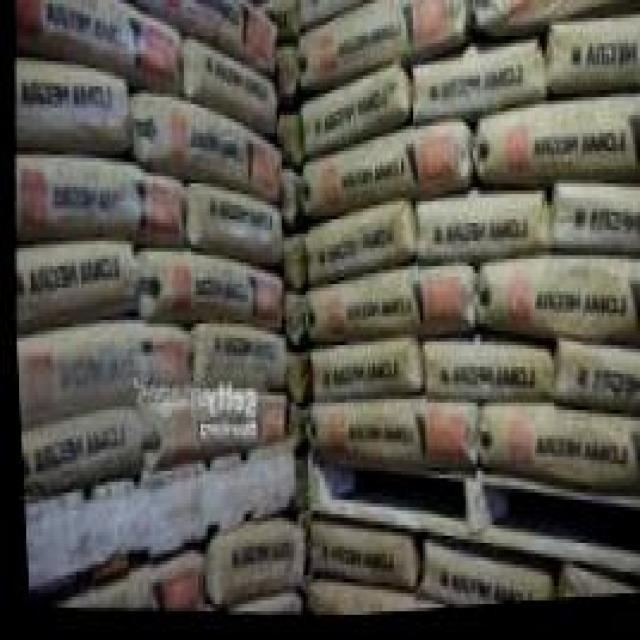gunny_bag: (291, 118, 471, 226), (466, 261, 640, 365), (469, 100, 640, 199), (135, 91, 280, 207), (468, 412, 640, 506), (13, 333, 185, 425), (14, 0, 179, 95), (298, 259, 471, 349), (292, 0, 460, 90), (12, 157, 181, 243), (292, 58, 412, 171), (297, 404, 473, 481), (407, 35, 541, 128), (140, 247, 276, 337), (409, 191, 544, 268), (17, 412, 139, 497), (12, 245, 133, 330), (137, 0, 276, 70), (153, 399, 282, 474), (542, 9, 640, 106), (416, 342, 546, 414), (298, 208, 409, 290), (13, 68, 122, 147), (418, 547, 548, 613), (547, 339, 640, 429), (189, 41, 274, 137), (190, 186, 279, 276), (300, 335, 414, 403), (209, 525, 294, 616), (305, 525, 408, 597), (194, 322, 287, 399), (545, 191, 640, 261)
